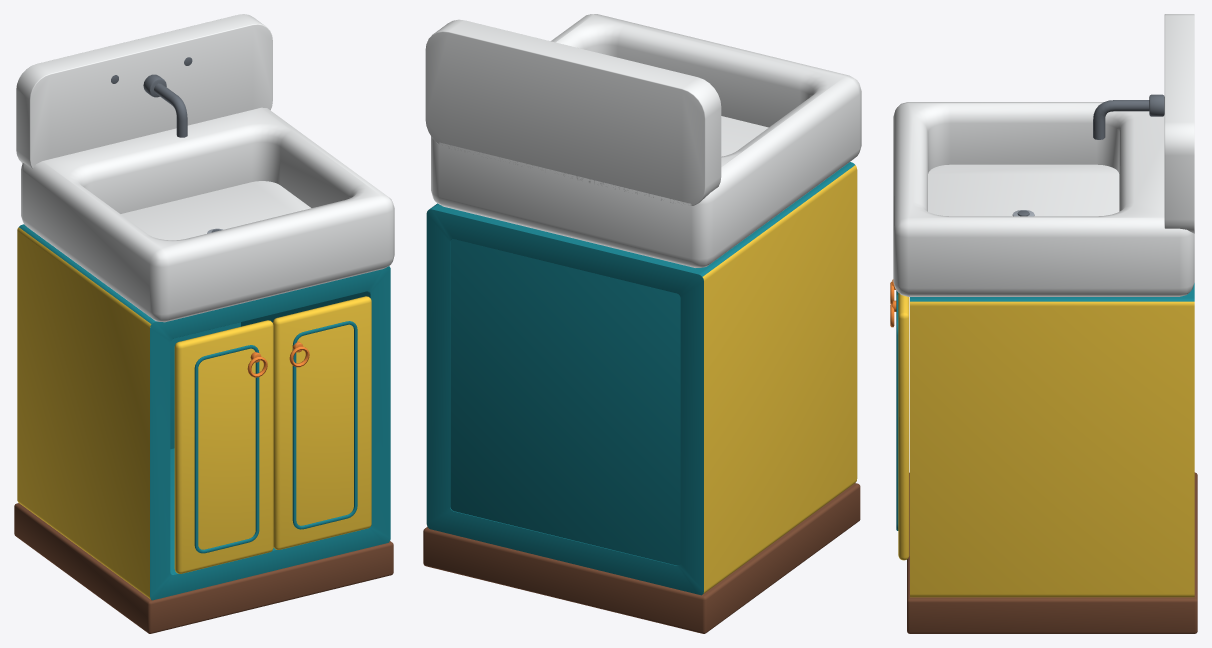
The model's file is armario_cozinha_pia_colonial.glb.
3 renders of one model, left to right at view 1: azimuth 30°, elevation 25°; view 2: azimuth 150°, elevation 25°; view 3: azimuth 270°, elevation 25°, orthographic. The views are drawn at different scales.
Visible parts, largest first — view 1: armario_cozinha_pia_colonial, porta_1, porta_2; view 2: armario_cozinha_pia_colonial; view 3: armario_cozinha_pia_colonial, porta_2.
Part boxes in pixels (x1,y1,x2,y2): armario_cozinha_pia_colonial: (14,14,394,633); porta_1: (174,320,273,573); porta_2: (273,296,371,549); armario_cozinha_pia_colonial: (423,14,861,633); armario_cozinha_pia_colonial: (893,14,1197,633); porta_2: (890,293,909,560).
Size of the model in its own units: 0.604 by 1.1 by 0.6112.
1 material, 1 textured.
